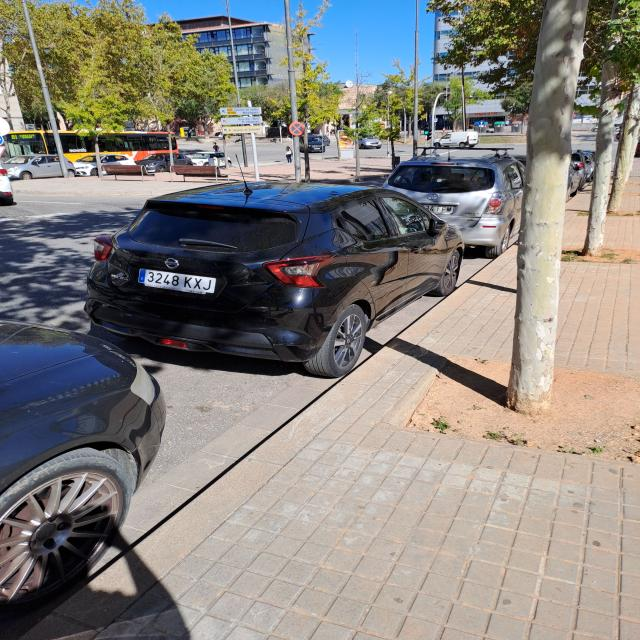license_plate-34Td: (138, 269, 216, 295)
